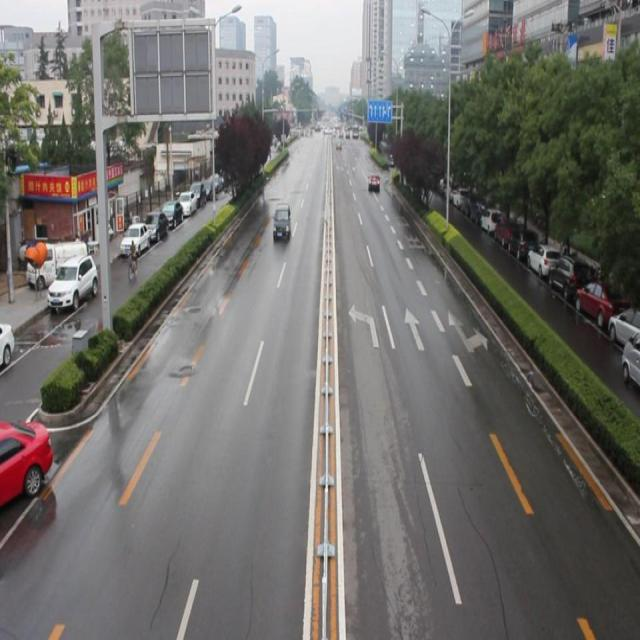car: (0, 417, 54, 498), (366, 172, 379, 191)
truck: (272, 202, 291, 241)
